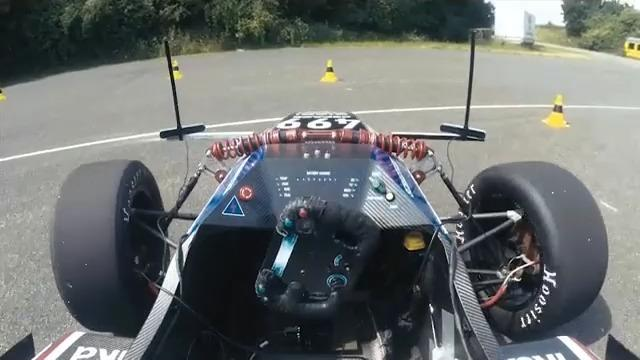yellow_cone: (542, 93, 571, 129), (319, 58, 339, 83), (167, 59, 183, 80), (0, 82, 7, 101)
